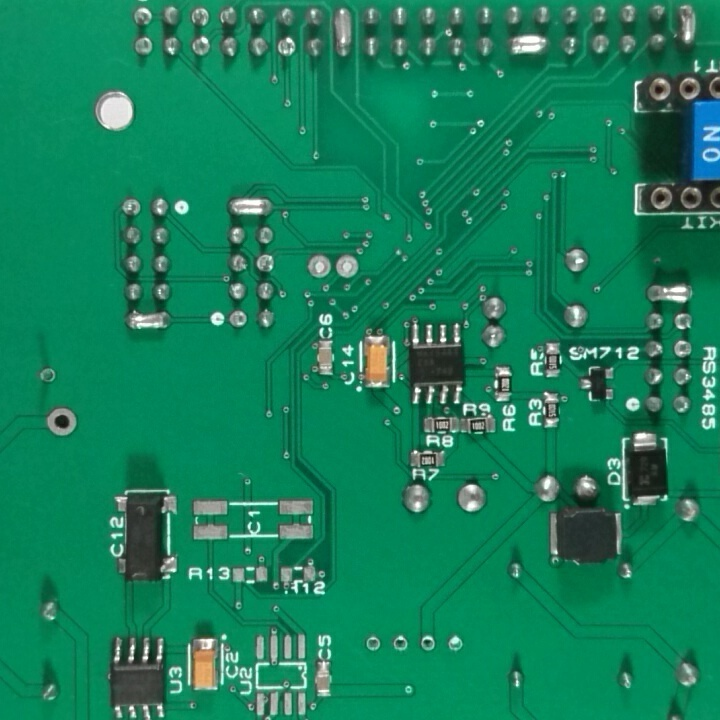F: (45, 406, 80, 440), (333, 252, 361, 280), (304, 252, 330, 279), (274, 33, 299, 59), (187, 4, 211, 30), (118, 195, 142, 220), (444, 631, 468, 656), (671, 338, 695, 362), (253, 250, 276, 275), (36, 366, 59, 389), (364, 632, 386, 655), (227, 309, 249, 332), (132, 5, 153, 28), (392, 633, 411, 657), (419, 631, 437, 654)
P: (330, 3, 358, 63), (120, 304, 174, 334), (641, 281, 699, 308), (224, 193, 278, 218), (676, 1, 701, 52), (507, 33, 551, 59)
